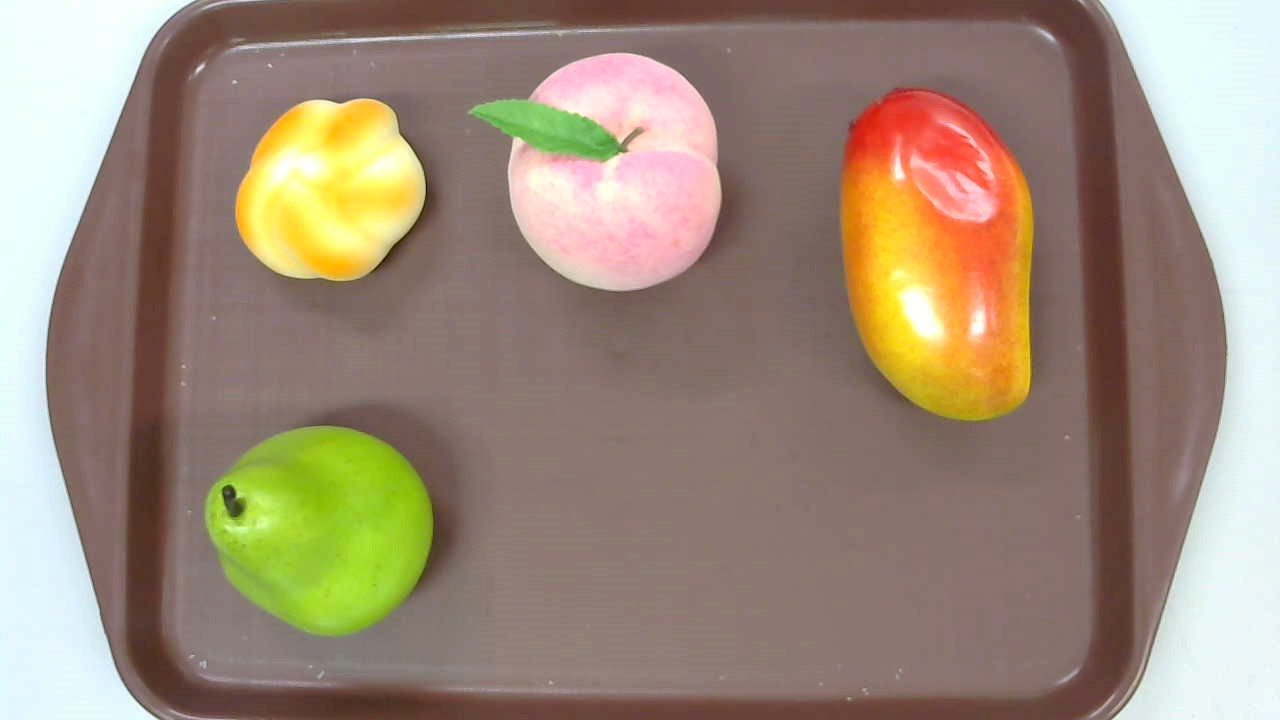green pear: (204, 426, 435, 638)
peach: (466, 53, 724, 293)
red mango: (841, 87, 1035, 419)
twist bread: (234, 98, 426, 284)
